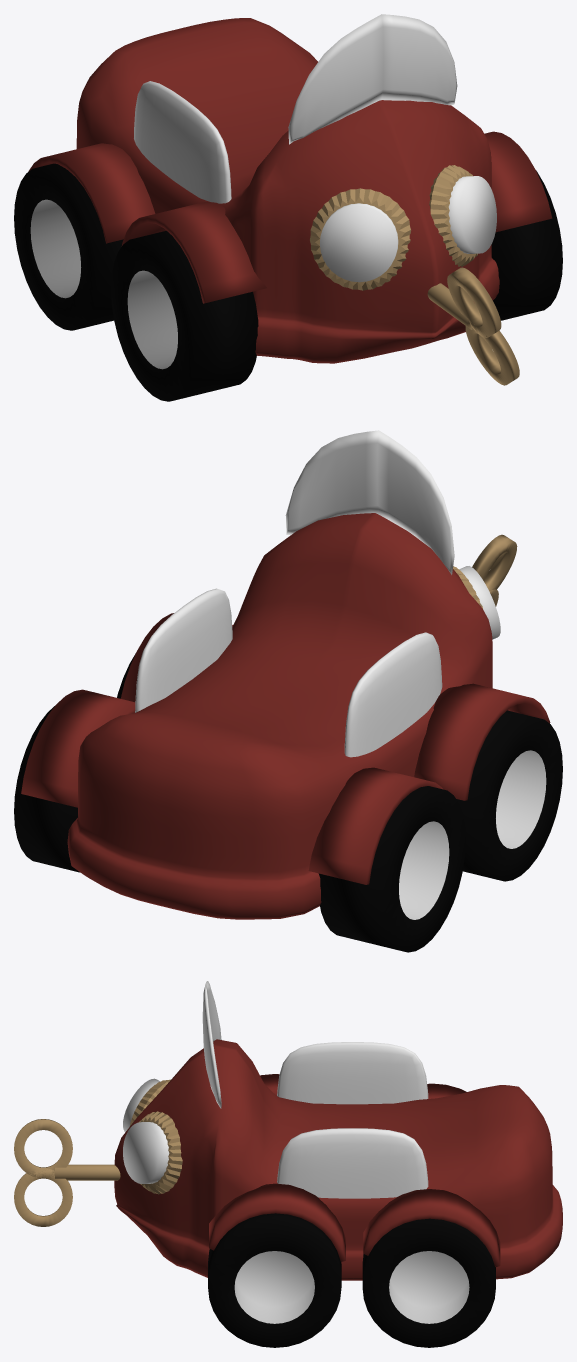
The model's file is car.fbx.
The picture shows the model from 3 angles, top to bottom: view 1: azimuth 30°, elevation 25°; view 2: azimuth 150°, elevation 25°; view 3: azimuth 270°, elevation 25°; orthographic projection. The views are drawn at different scales.
Parts seen in each view (by area): view 1: Cube.001, Cylinder.001, Cylinder.003, Plane, Cylinder.009, Cube.002, Cylinder.002, Cylinder.005, Cylinder.010, Cylinder.008, Cylinder.007; view 2: Cube.001, Cylinder.003, Cube.002, Cylinder.001, Plane, Cylinder.002, Cylinder.005, Cylinder.006, Cylinder.008, Cylinder.009, Cylinder.007; view 3: Cube.001, Cube.002, Cylinder.001, Cylinder.003, Cylinder.006, Cylinder.007, Cylinder.008, Cylinder.009, Cylinder.010, Plane.
Boxes of the visible parts, bbox=[...] form: Cube.001: bbox=[76, 18, 499, 363]; Cylinder.001: bbox=[111, 170, 562, 401]; Cylinder.003: bbox=[14, 163, 123, 330]; Plane: bbox=[288, 14, 457, 144]; Cylinder.009: bbox=[319, 176, 496, 282]; Cube.002: bbox=[134, 81, 231, 203]; Cylinder.002: bbox=[121, 202, 266, 303]; Cylinder.005: bbox=[28, 143, 155, 243]; Cylinder.010: bbox=[310, 165, 477, 290]; Cylinder.008: bbox=[427, 267, 519, 385]; Cylinder.007: bbox=[484, 131, 552, 232]; Cube.001: bbox=[67, 513, 492, 919]; Cylinder.003: bbox=[14, 706, 465, 952]; Cube.002: bbox=[135, 588, 442, 757]; Cylinder.001: bbox=[117, 653, 562, 881]; Plane: bbox=[285, 430, 454, 574]; Cylinder.002: bbox=[414, 683, 550, 800]; Cylinder.005: bbox=[308, 767, 443, 884]; Cylinder.006: bbox=[21, 689, 135, 807]; Cylinder.008: bbox=[472, 534, 517, 606]; Cylinder.009: bbox=[459, 566, 500, 639]; Cylinder.007: bbox=[120, 613, 232, 702]; Cube.001: bbox=[114, 1039, 562, 1280]; Cube.002: bbox=[277, 1042, 428, 1198]; Cylinder.001: bbox=[208, 1213, 341, 1347]; Cylinder.003: bbox=[362, 1218, 495, 1347]; Cylinder.006: bbox=[363, 1189, 500, 1267]; Cylinder.007: bbox=[209, 1183, 345, 1261]; Cylinder.008: bbox=[14, 1119, 120, 1226]; Cylinder.009: bbox=[123, 1078, 169, 1183]; Cylinder.010: bbox=[130, 1079, 182, 1194]; Plane: bbox=[202, 981, 221, 1108].
Size of the model in its own units: 934 by 893 by 1515.
